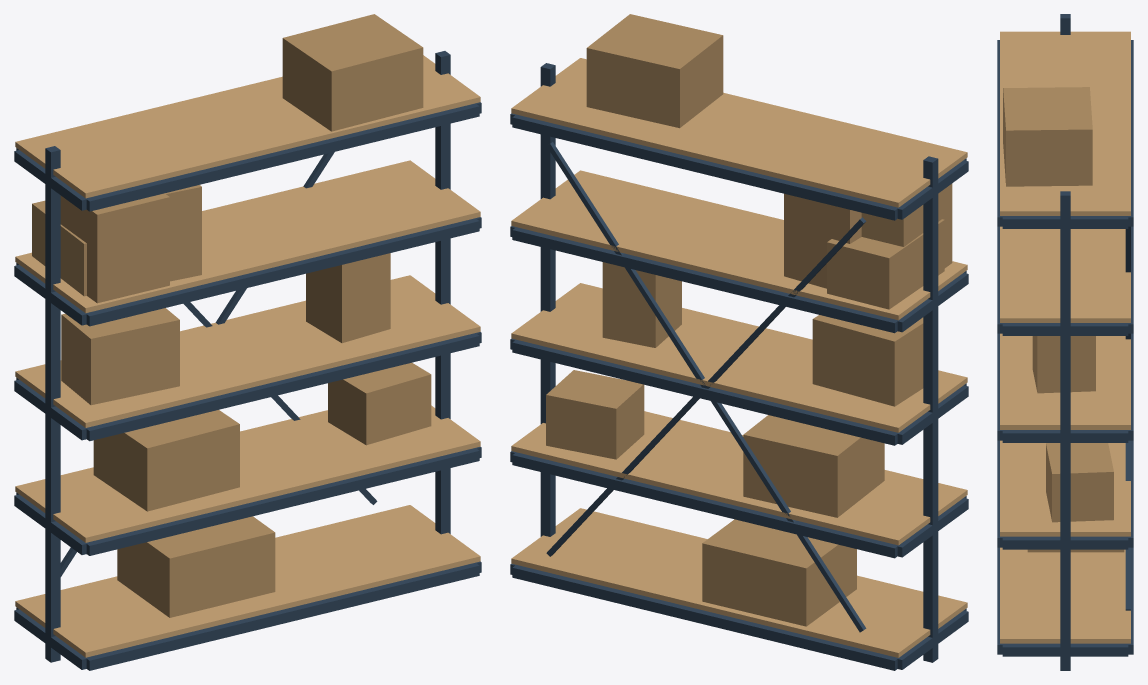
File: etagere_stockage.glb
3 views of the same model, side by side, from view 1: azimuth 30°, elevation 25°; view 2: azimuth 150°, elevation 25°; view 3: azimuth 270°, elevation 25° (orthographic). The views are drawn at different scales.
Bounding box in the file's own units: 4.1 × 5.42 × 1.3.
